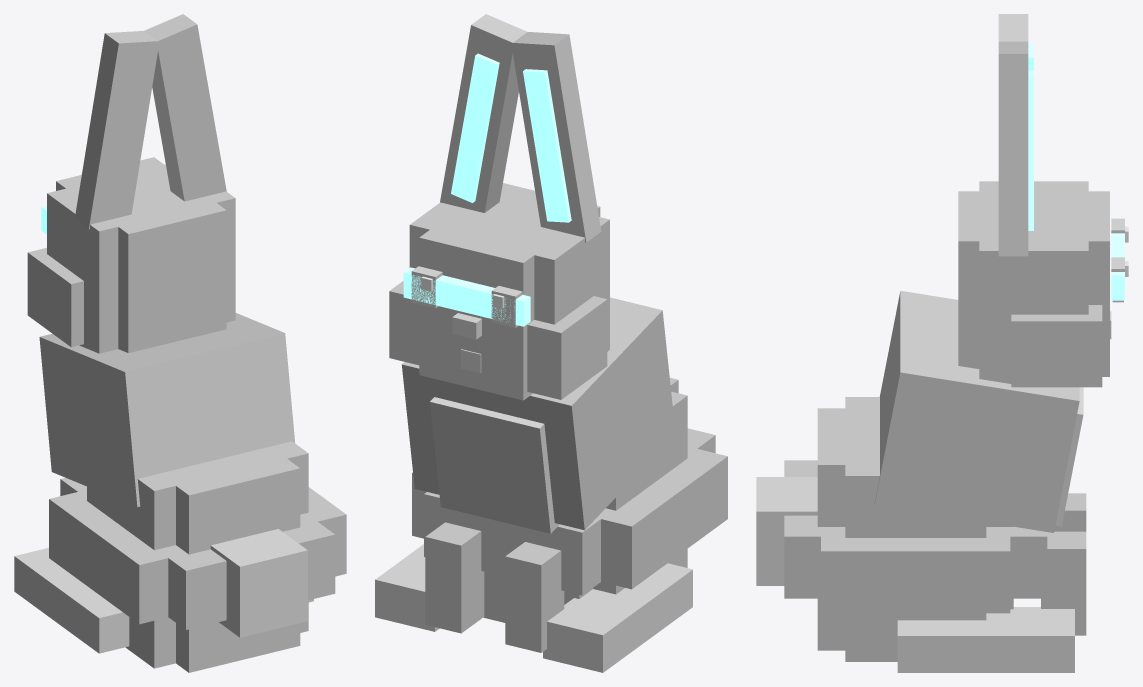
Rendered from RobotRabbit.fbx.
The picture shows the model from 3 angles, left to right: view 1: azimuth 30°, elevation 25°; view 2: azimuth 150°, elevation 25°; view 3: azimuth 270°, elevation 25°; orthographic projection. The views are drawn at different scales.
Visible parts, largest first — view 1: Robot Rabbit_body_6, Robot Rabbit_body_2, Robot Rabbit_earL_24, Robot Rabbit_head_15, Robot Rabbit_earR_23, Robot Rabbit_body_5, Robot Rabbit_tail_27, Robot Rabbit_head_14, Robot Rabbit_body_3, Robot Rabbit_body_4, Robot Rabbit_legBL_9, Robot Rabbit_head_13 (+4 smaller); view 2: Robot Rabbit_body_6, Robot Rabbit_body_7, Robot Rabbit_body_2, Robot Rabbit_head_14, Robot Rabbit_legBL_9, Robot Rabbit_earL_24, Robot Rabbit_head_16, Robot Rabbit_earR_23, Robot Rabbit_body_3, Robot Rabbit_head_15, Robot Rabbit_head_13, Robot Rabbit_legFR_10 (+10 smaller); view 3: Robot Rabbit_body_6, Robot Rabbit_body_2, Robot Rabbit_head_14, Robot Rabbit_legBR_8, Robot Rabbit_body_4, Robot Rabbit_head_16, Robot Rabbit_body_3, Robot Rabbit_earR_23, Robot Rabbit_head_15, Robot Rabbit_tail_27, Robot Rabbit_body_5, Robot Rabbit_legFR_10 (+9 smaller).
Boxes of the visible parts, x1=… form: Robot Rabbit_body_6: x1=39, y1=313, x2=295, y2=507; Robot Rabbit_body_2: x1=49, y1=487, x2=346, y2=624; Robot Rabbit_earL_24: x1=74, y1=31, x2=159, y2=229; Robot Rabbit_head_15: x1=56, y1=157, x2=226, y2=298; Robot Rabbit_earR_23: x1=144, y1=14, x2=226, y2=201; Robot Rabbit_body_5: x1=176, y1=449, x2=300, y2=554; Robot Rabbit_tail_27: x1=210, y1=529, x2=307, y2=637; Robot Rabbit_head_14: x1=47, y1=164, x2=235, y2=295; Robot Rabbit_body_3: x1=60, y1=477, x2=335, y2=629; Robot Rabbit_body_4: x1=87, y1=441, x2=308, y2=550; Robot Rabbit_legBL_9: x1=14, y1=547, x2=129, y2=653; Robot Rabbit_head_13: x1=118, y1=275, x2=226, y2=352; Robot Rabbit_body_6: x1=401, y1=297, x2=675, y2=530; Robot Rabbit_body_7: x1=430, y1=397, x2=559, y2=533; Robot Rabbit_body_2: x1=412, y1=446, x2=727, y2=589; Robot Rabbit_head_14: x1=409, y1=193, x2=609, y2=324; Robot Rabbit_legBL_9: x1=543, y1=563, x2=692, y2=672; Robot Rabbit_earL_24: x1=511, y1=32, x2=601, y2=242; Robot Rabbit_head_16: x1=389, y1=281, x2=607, y2=399; Robot Rabbit_earR_23: x1=440, y1=14, x2=527, y2=212; Robot Rabbit_body_3: x1=424, y1=428, x2=715, y2=595; Robot Rabbit_head_15: x1=419, y1=183, x2=600, y2=331; Robot Rabbit_head_13: x1=419, y1=306, x2=532, y2=400; Robot Rabbit_legFR_10: x1=425, y1=522, x2=484, y2=633; Robot Rabbit_body_6: x1=874, y1=290, x2=1079, y2=532; Robot Rabbit_body_2: x1=821, y1=527, x2=1010, y2=613; Robot Rabbit_head_14: x1=979, y1=181, x2=1088, y2=318; Robot Rabbit_legBR_8: x1=897, y1=607, x2=1074, y2=672; Robot Rabbit_body_4: x1=845, y1=397, x2=986, y2=537; Robot Rabbit_head_16: x1=1011, y1=305, x2=1102, y2=387; Robot Rabbit_body_3: x1=784, y1=460, x2=1047, y2=598; Robot Rabbit_earR_23: x1=998, y1=41, x2=1028, y2=256; Robot Rabbit_head_15: x1=958, y1=191, x2=1109, y2=308; Robot Rabbit_tail_27: x1=756, y1=477, x2=817, y2=585; Robot Rabbit_body_5: x1=817, y1=408, x2=1013, y2=526; Robot Rabbit_legFR_10: x1=1041, y1=531, x2=1086, y2=635.
Size of the model in its own units: 114 by 285 by 164.
